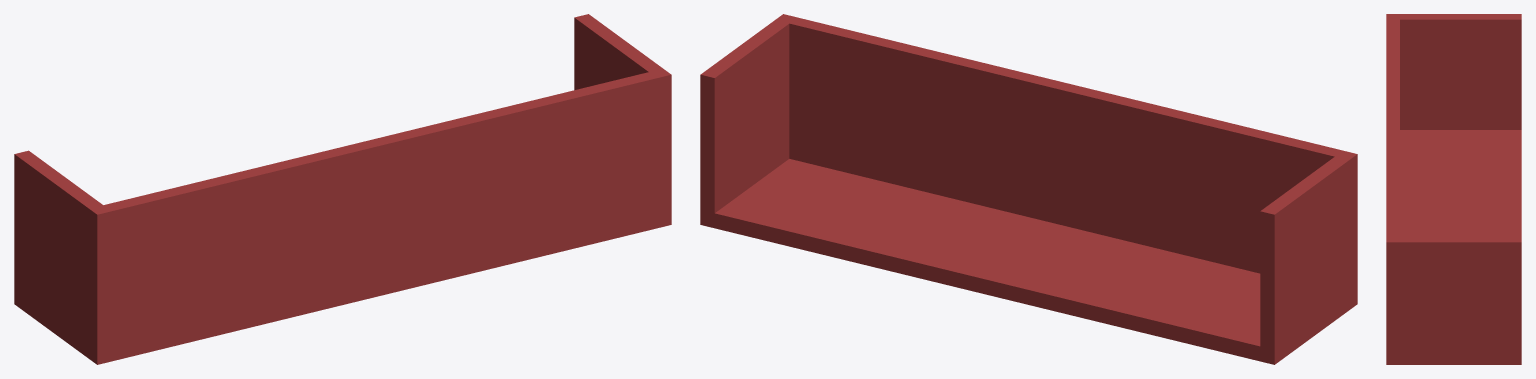
File: balcony_long.fbx
The picture shows the model from 3 angles, left to right: view 1: azimuth 30°, elevation 25°; view 2: azimuth 150°, elevation 25°; view 3: azimuth 270°, elevation 25°; orthographic projection. The views are drawn at different scales.
Parts seen in each view (by area): view 1: balcony_long; view 2: balcony_long; view 3: balcony_long.
Boxes of the visible parts, x1,y1,x2,y2 form: balcony_long: (14, 14, 671, 364); balcony_long: (700, 14, 1357, 364); balcony_long: (1386, 14, 1521, 364).
Bounding box in the file's own units: 8 × 2 × 2.
